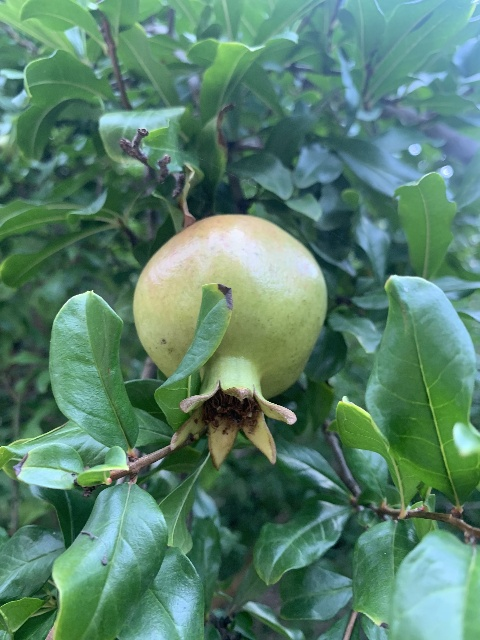mid-growth: (132, 212, 328, 475)
